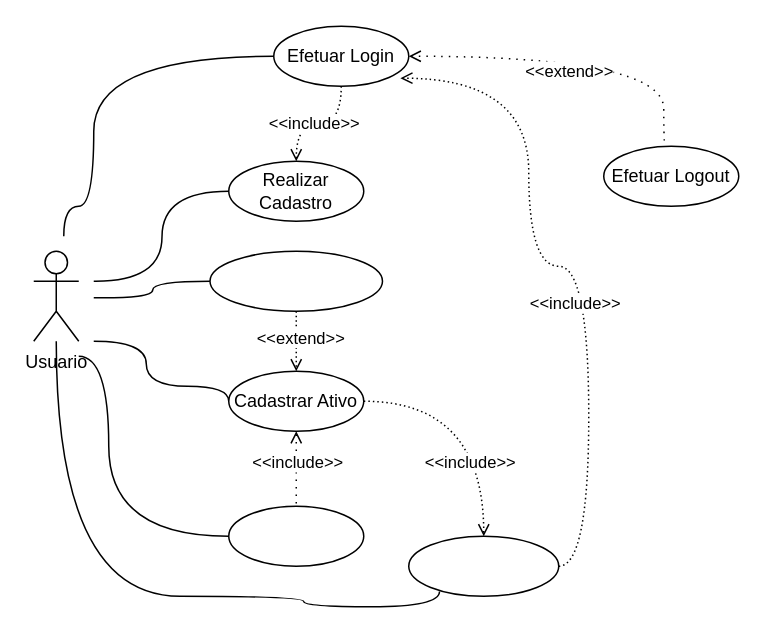
Image size: 765x633. Some labels were removed from this diagram. The centre of each missing label's shape, as x and y in pixels:
Alterar Ativo: (x=295, y=535)
Alterar Status do Ativo: (x=295, y=280)
Visualizar Ativos: (x=483, y=565)
